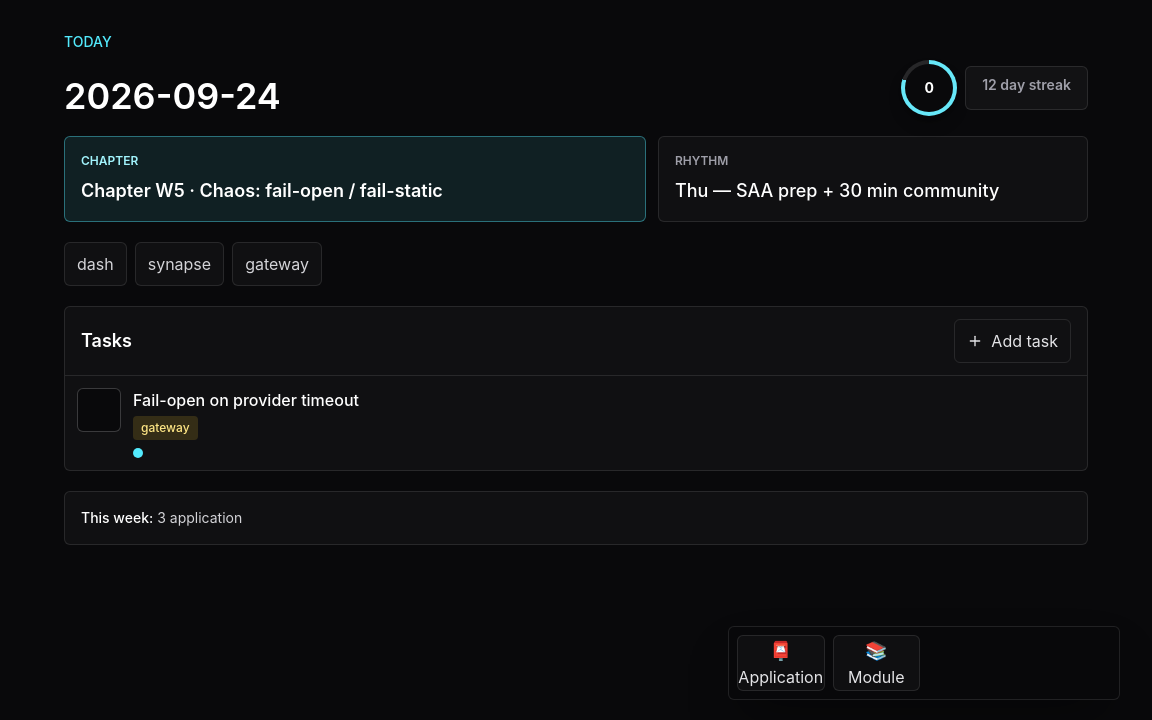
TodayPage › requires a skill when adding an ad-hoc task
Click the button "Add task": {"x": 1013, "y": 341} [954,319,1071,363]
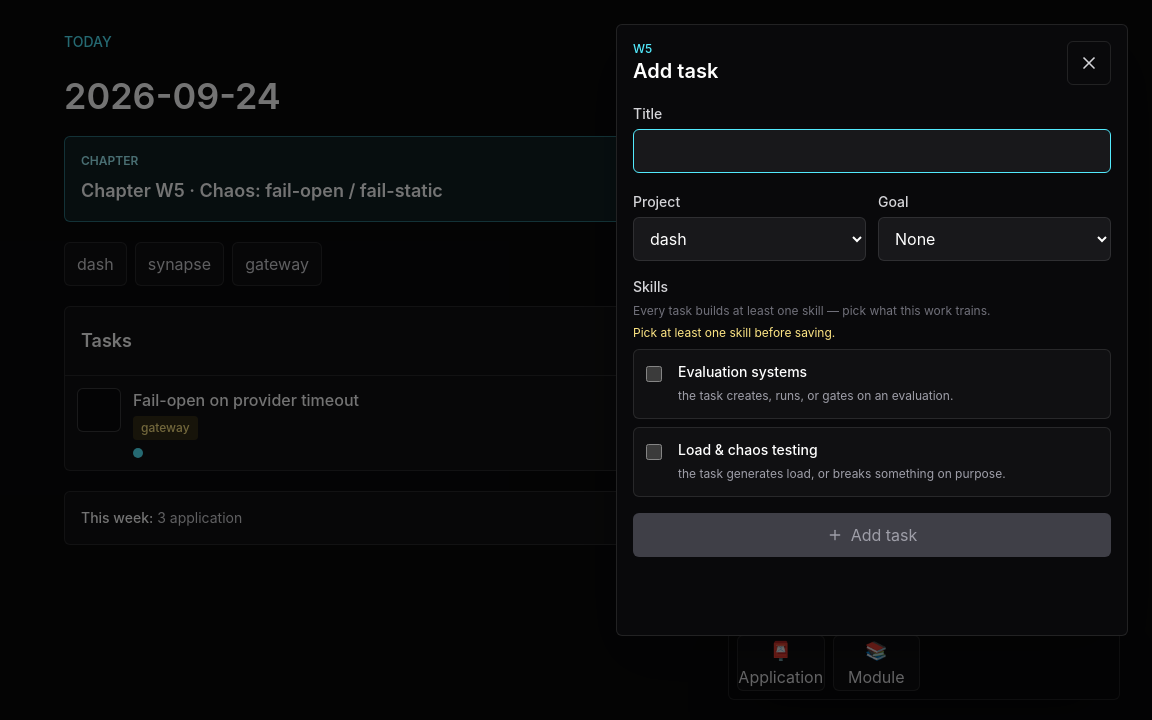
Expected: the button "Add task" is disabled, [633,513,1111,557]
Expected: the text "Every task builds at least one skill — pick what this work trains." is shown, [633,303,990,318]
Expected: the text "Pick at least one skill before saving." is shown, [633,325,835,340]
In the field labelled "Title": {"x": 872, "y": 151} [633,129,1111,173], type "Capture p99 from the mixed profile"
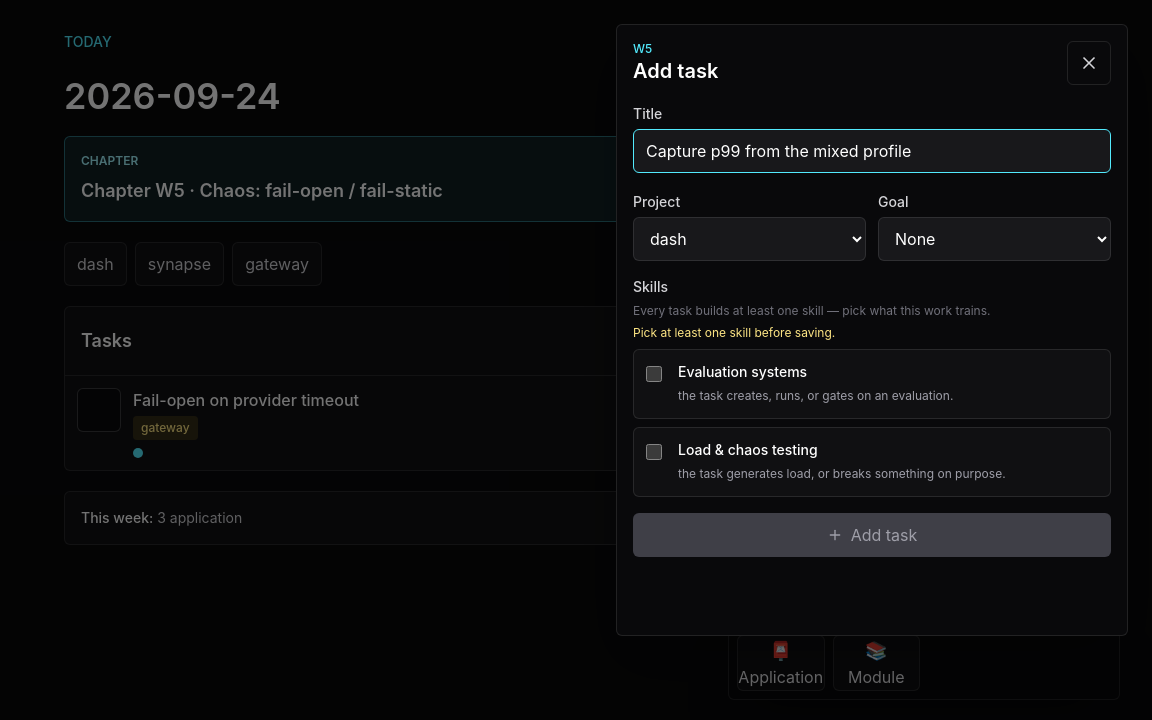
Expected: the button "Add task" is disabled, [633,513,1111,557]
Click the checkbox labelled "Load & chaos testing": {"x": 654, "y": 452} [646,444,662,460]
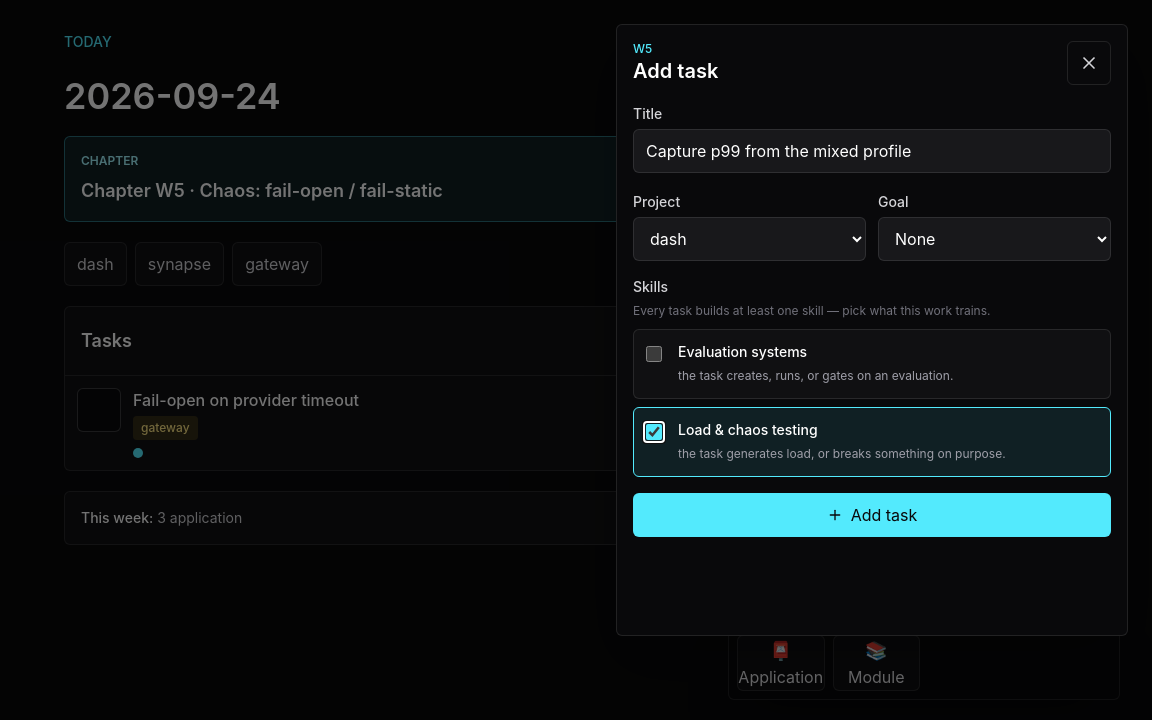
Expected: the button "Add task" is enabled
Click the button "Add task": {"x": 872, "y": 515} [633,493,1111,537]
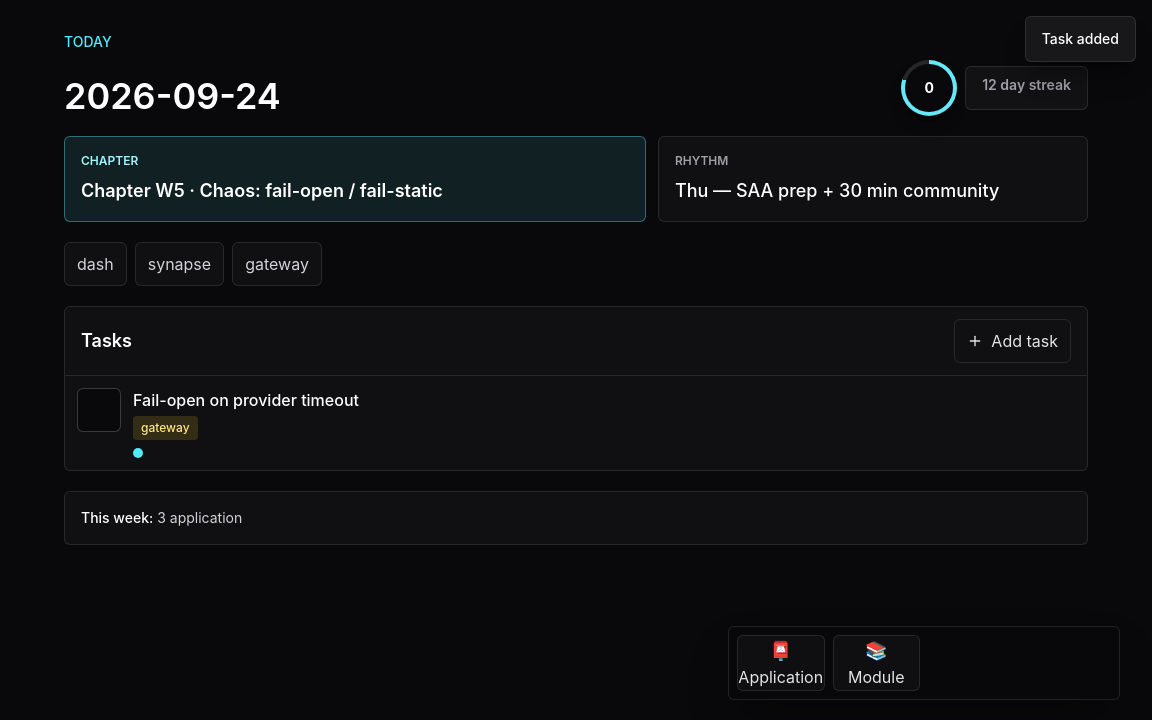
Expected: the text "Task added" is shown, [1025,16,1136,62]
